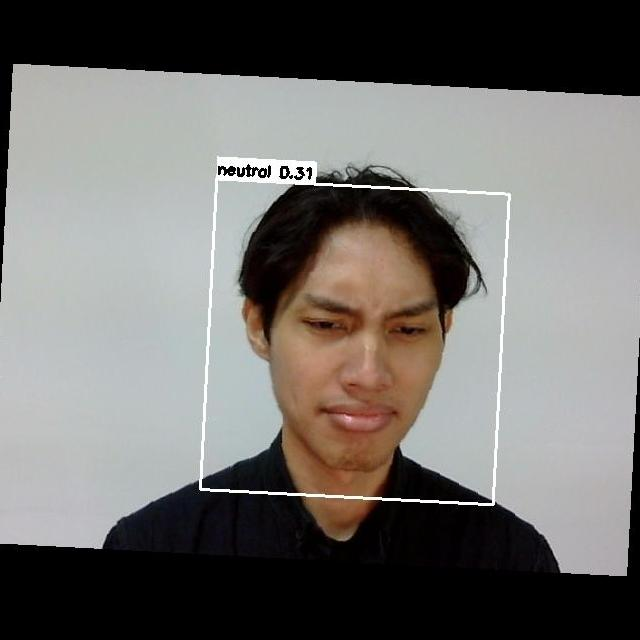Disgust: (278, 272, 449, 455)
